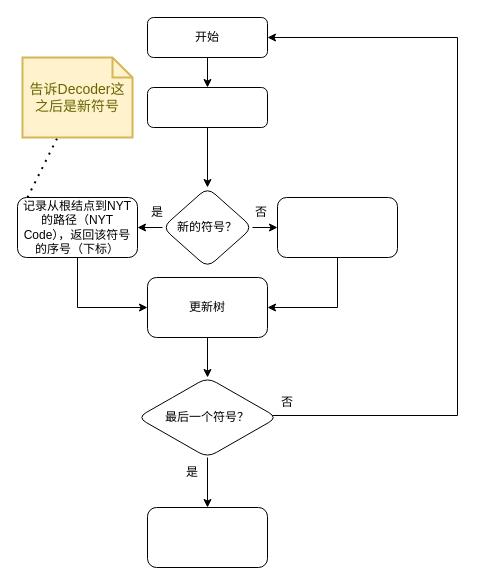
Some shapes in this 483 by 585 pixel diagram are drawn without their labels. The centre of each missing label's shape, as x and y in pixels:
"结束" belongs at (x=207, y=537).
"记录从根结点到对应叶子结点的路径" belongs at (x=337, y=227).
"读入符号" belongs at (x=207, y=107).
